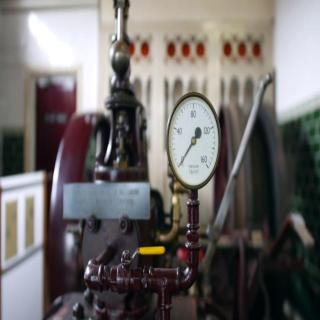gauge: (164, 91, 224, 193), (174, 158, 185, 170), (202, 160, 212, 172), (189, 134, 198, 146), (176, 164, 181, 169)
